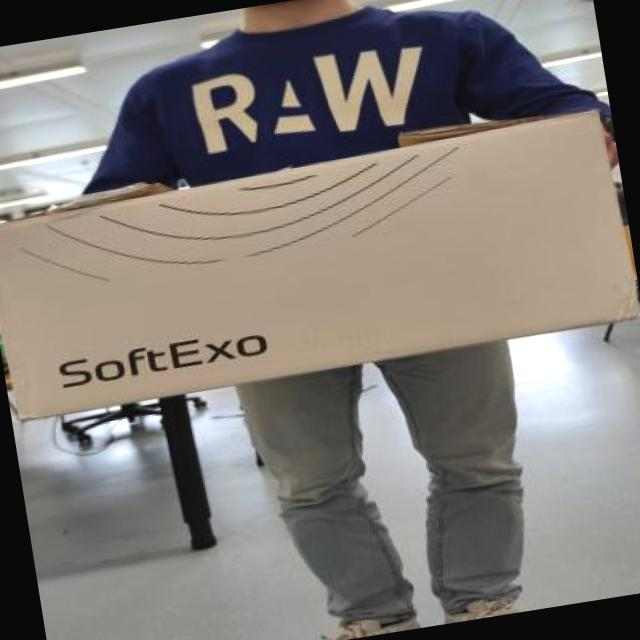box: (0, 101, 640, 424)
